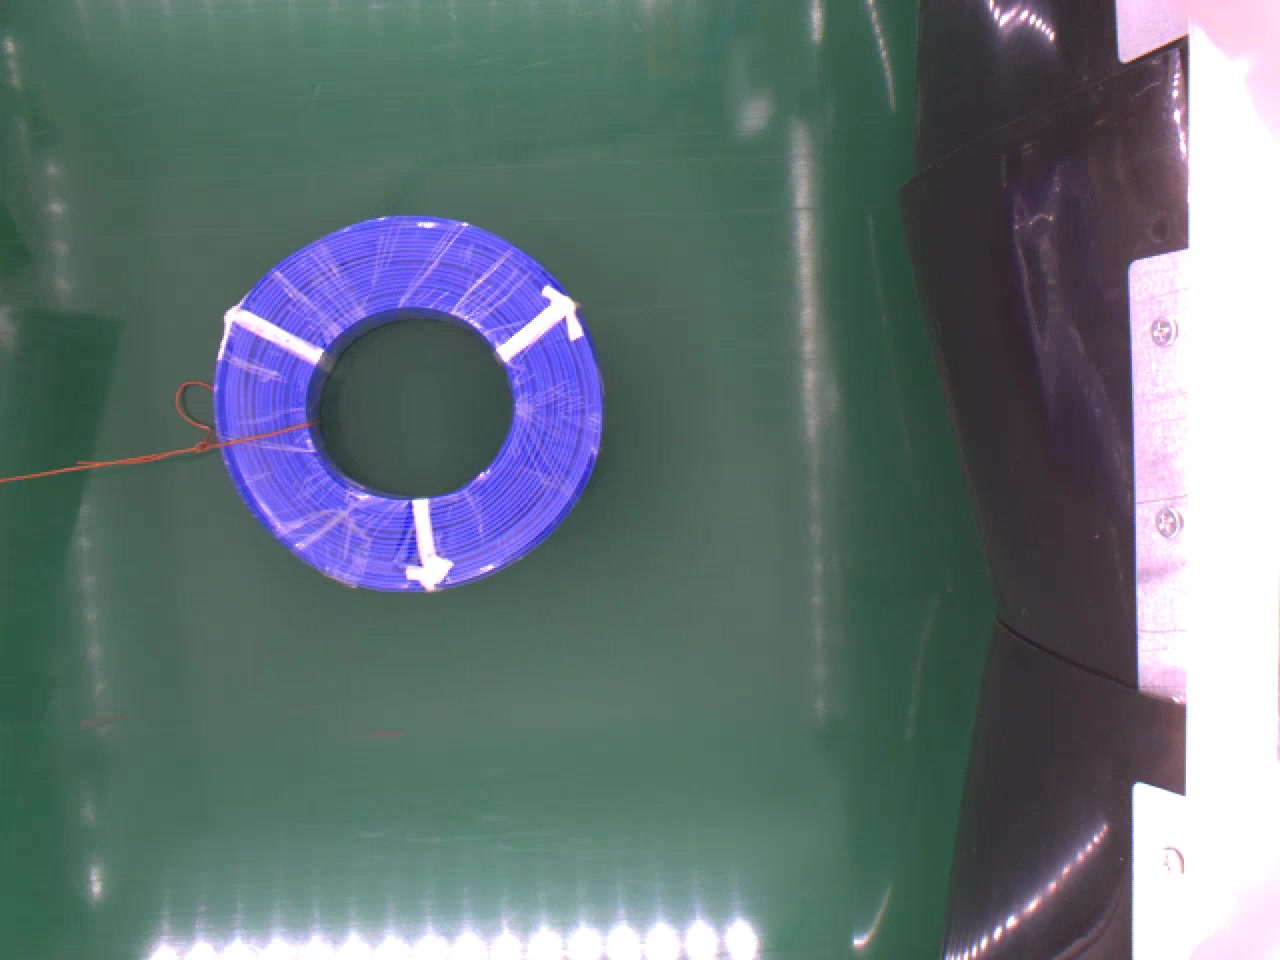blue: (207, 209, 607, 594)
